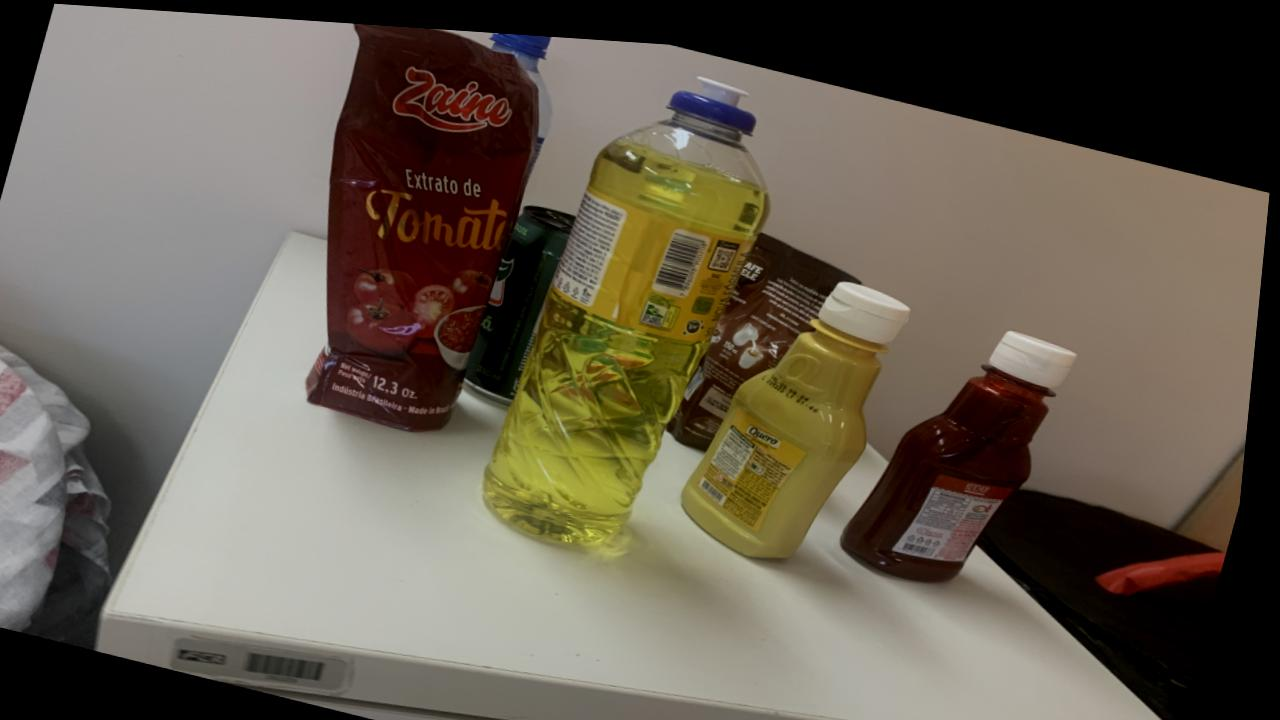Coffee-Pantry_Items: (676, 222, 863, 439)
Detergent-Cleanup_Items: (491, 68, 772, 534)
Guarana_Can-Drinks: (471, 197, 578, 396)
Ketchup-Pantry_Items: (850, 316, 1082, 568)
Mustard-Pantry_Items: (690, 269, 915, 546)
Tomato_Sauce-Pantry_Items: (312, 19, 540, 425)
Water_Bottle-Drinks: (491, 26, 554, 176)
